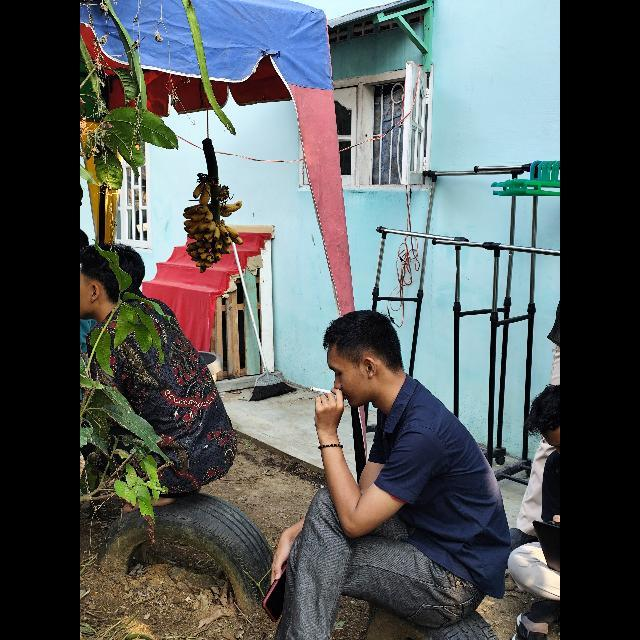rokok: (306, 382, 344, 402)
